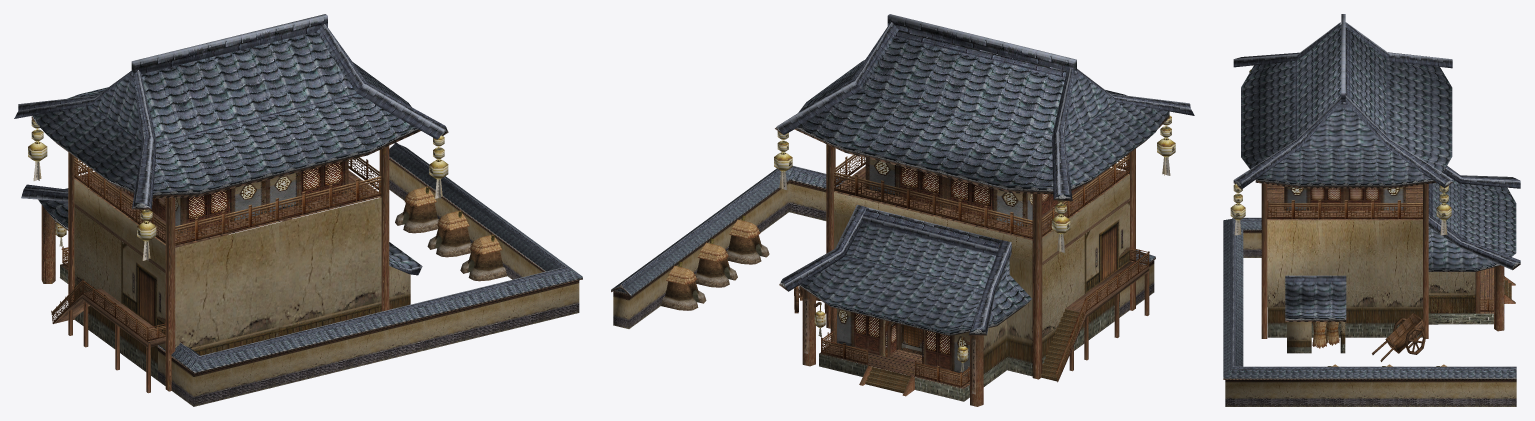
The model's file is cj_etc.glb.
The picture shows the model from 3 angles, left to right: view 1: azimuth 30°, elevation 25°; view 2: azimuth 150°, elevation 25°; view 3: azimuth 270°, elevation 25°; orthographic projection. The views are drawn at different scales.
Parts seen in each view (by area): view 1: CJ_etc_roof, CJ_etc_wall02, CJ_etc_sidewall, CJ_etc_fence, CJ_etc_wall01, CJ_etc_stove, CJ_etc_winlight, CJ_etc_light01, CJ_etc_stoveroof; view 2: CJ_etc_roof, CJ_etc_wall02, CJ_etc_wall01, CJ_etc_fence, CJ_etc_sidewall, CJ_etc_winlight, CJ_etc_stove, CJ_etc_light01, CJ_etc_stoveroof; view 3: CJ_etc_roof, CJ_etc_wall02, CJ_etc_sidewall, CJ_etc_fence, CJ_etc_wall01, CJ_etc_wagon, CJ_etc_light01, CJ_etc_winlight, CJ_etc_jipuragi.
Part boxes in pixels (<box>): CJ_etc_roof: <box>14,14,582,374</box>; CJ_etc_wall02: <box>41,146,410,393</box>; CJ_etc_sidewall: <box>158,158,579,406</box>; CJ_etc_fence: <box>51,157,381,341</box>; CJ_etc_wall01: <box>121,160,348,348</box>; CJ_etc_stove: <box>395,186,507,281</box>; CJ_etc_winlight: <box>152,161,342,219</box>; CJ_etc_light01: <box>28,119,448,260</box>; CJ_etc_stoveroof: <box>404,186,501,254</box>; CJ_etc_roof: <box>611,14,1194,336</box>; CJ_etc_wall02: <box>802,144,1149,406</box>; CJ_etc_wall01: <box>837,158,1129,377</box>; CJ_etc_fence: <box>821,153,1149,387</box>; CJ_etc_sidewall: <box>613,181,1154,328</box>; CJ_etc_winlight: <box>838,161,1052,355</box>; CJ_etc_stove: <box>661,215,769,310</box>; CJ_etc_light01: <box>774,116,1175,252</box>; CJ_etc_stoveroof: <box>666,219,760,285</box>; CJ_etc_roof: <box>1223,14,1520,379</box>; CJ_etc_wall02: <box>1261,183,1515,353</box>; CJ_etc_sidewall: <box>1225,231,1516,406</box>; CJ_etc_fence: <box>1267,200,1493,311</box>; CJ_etc_wall01: <box>1284,186,1405,210</box>; CJ_etc_wagon: <box>1372,312,1425,361</box>; CJ_etc_light01: <box>1230,69,1451,235</box>; CJ_etc_winlight: <box>1291,187,1399,200</box>; CJ_etc_jipuragi: <box>1312,322,1339,348</box>.
Bounding box in the file's own units: 35.1 × 22.37 × 24.76.
Materials: 12 (12 with a texture image).
